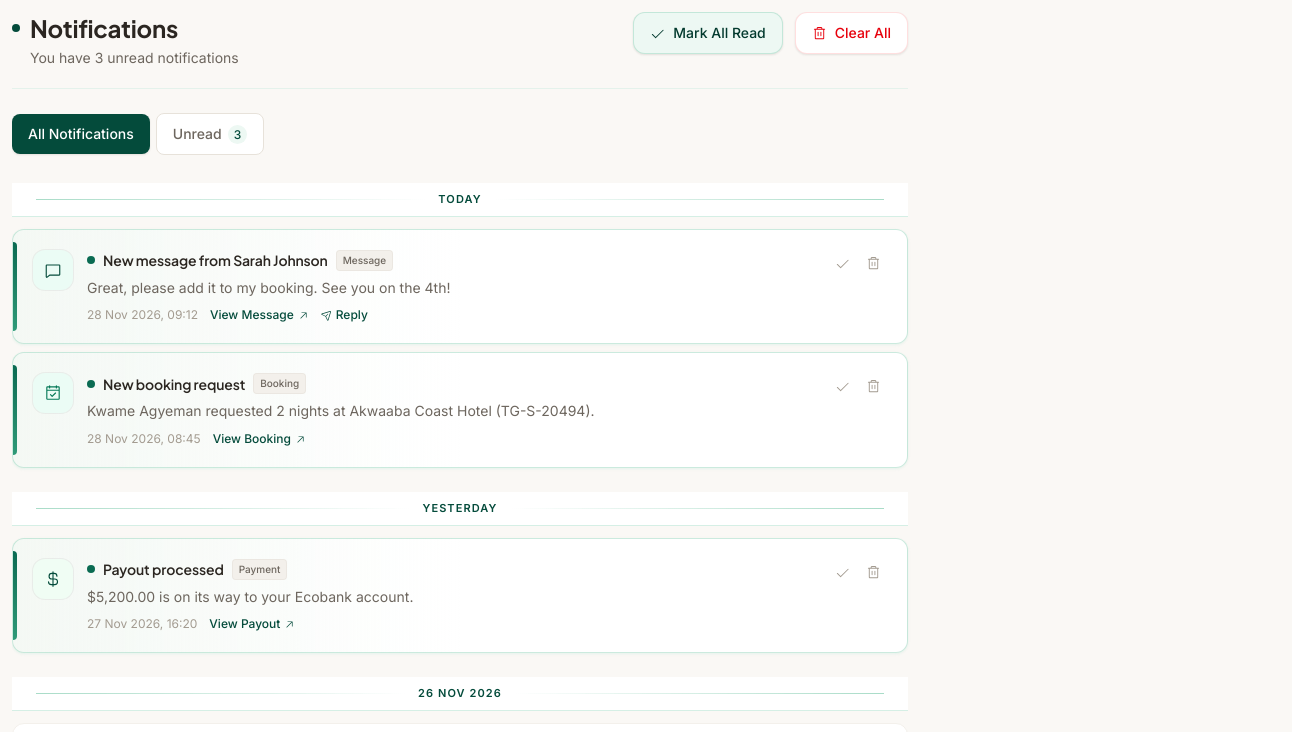
Scenario: StaysNotificationsPage — the Stays account inbox › marks one read and deletes another, persisting both
expect the heading "New booking request" is shown: met, box [103,374,245,394]
Click the button titled "Mark as read" in the row of "New message from Sarah Johnson" at (842,263), box [829,250,856,276]
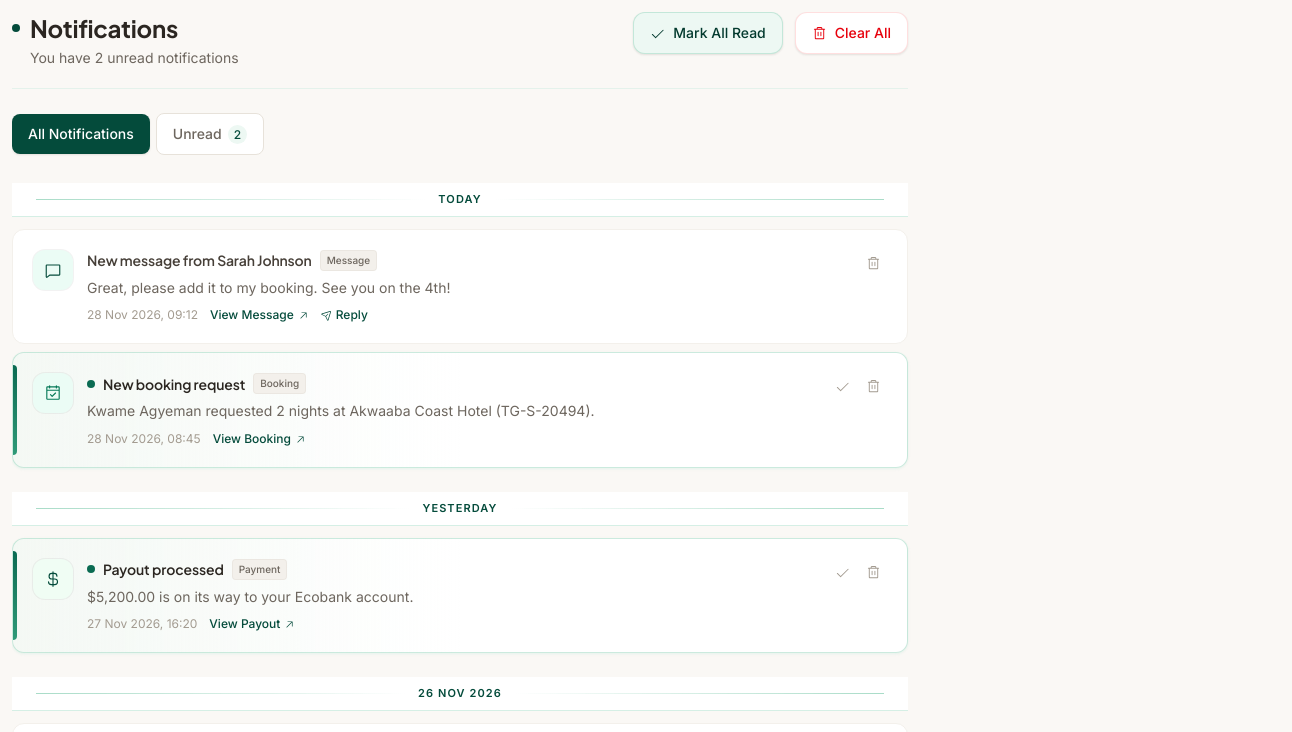
expect the text "You have 2 unread notifications" is shown: met, box [30,48,239,68]
Click the button titled "Delete" in the row of "New message from Sarah Johnson" at (874,263), box [860,250,887,276]
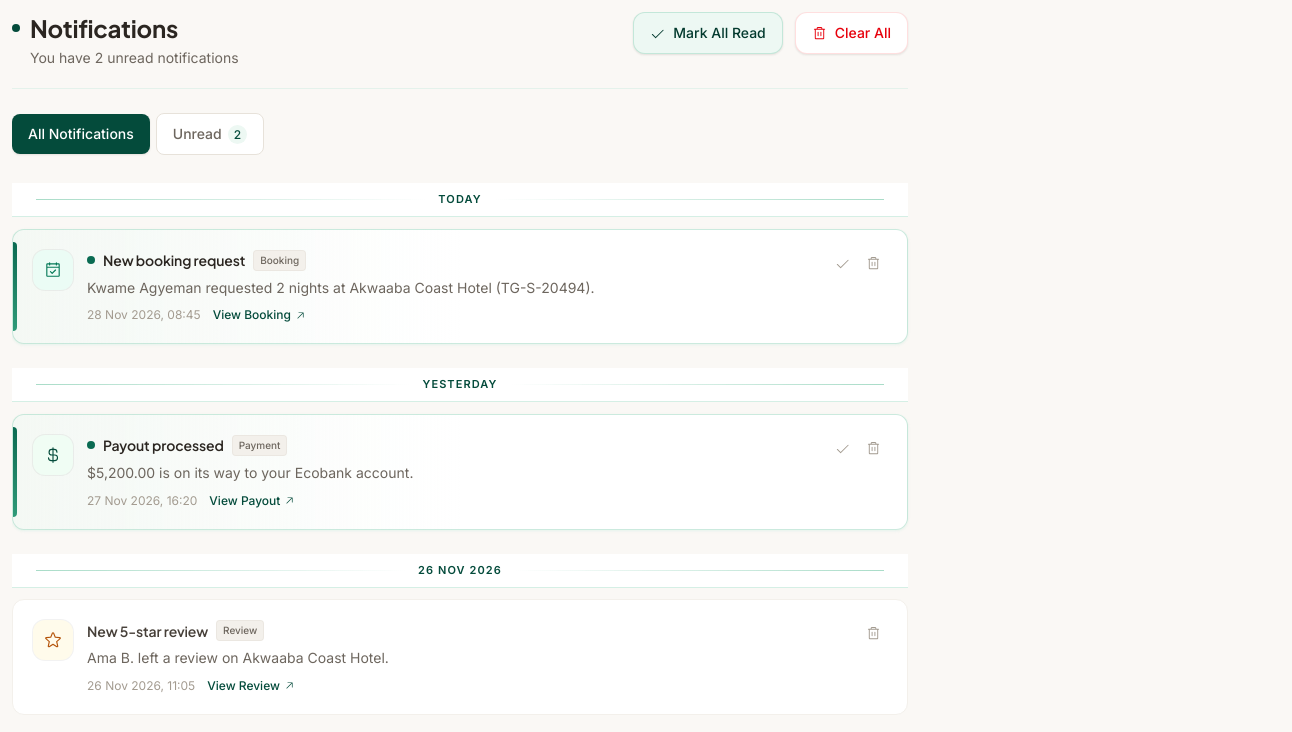
expect the heading "New message from Sarah Johnson" is gone: met
